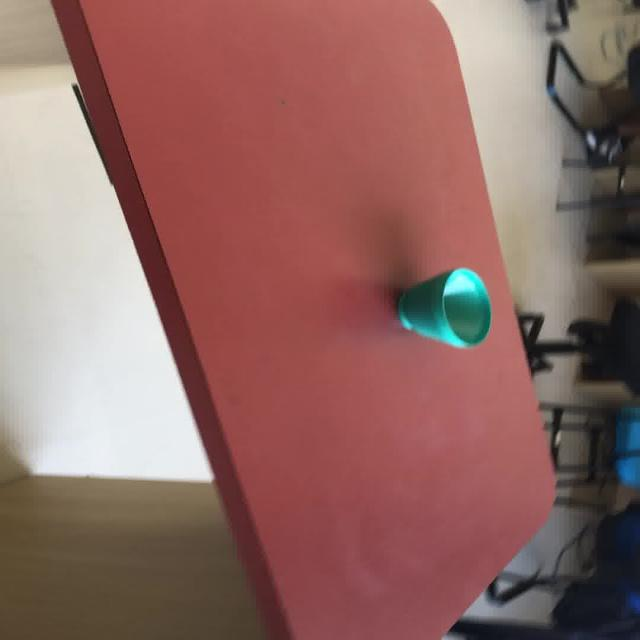bowl: (49, 0, 558, 638), (395, 266, 492, 348)
